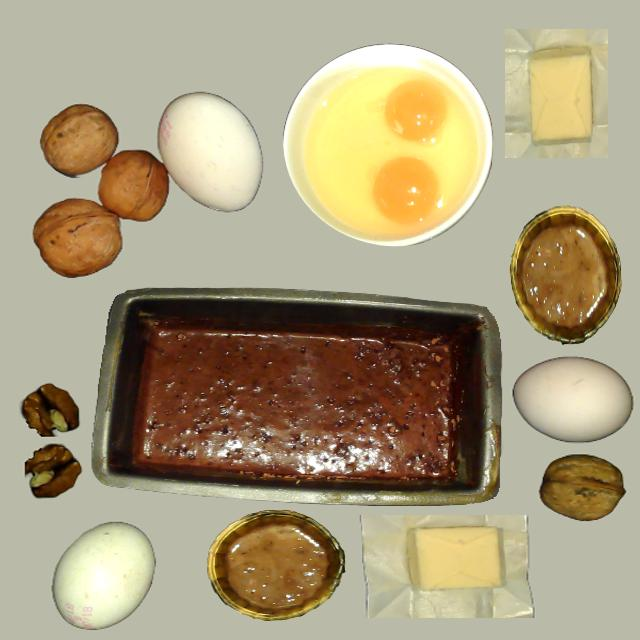Egg: (372, 157, 440, 223), (385, 80, 448, 142)
Walnut: (526, 452, 634, 532), (32, 198, 122, 275), (40, 103, 118, 176), (99, 150, 169, 220)
